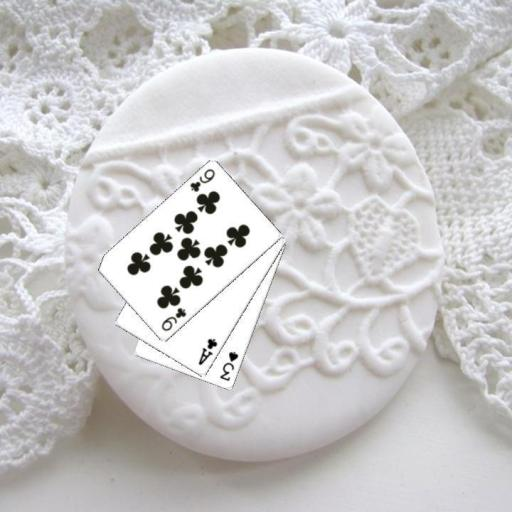card-corner: (158, 304, 188, 333), (186, 166, 216, 194), (217, 348, 240, 382), (195, 336, 219, 367)
